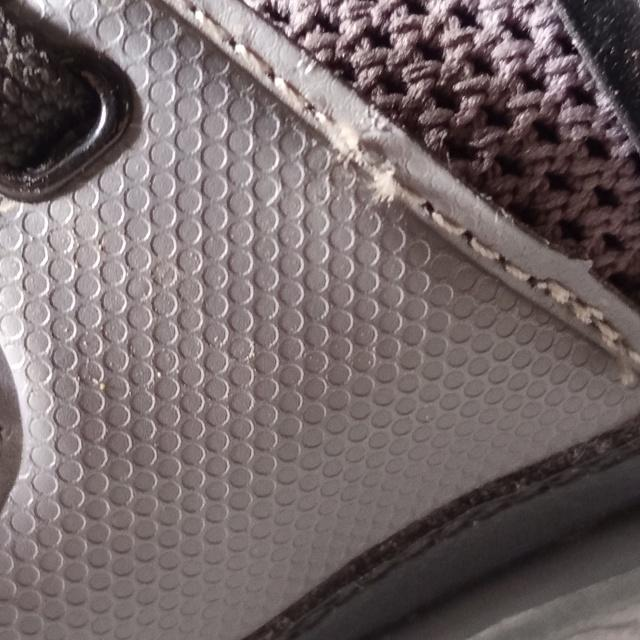broken: (334, 122, 406, 205)
